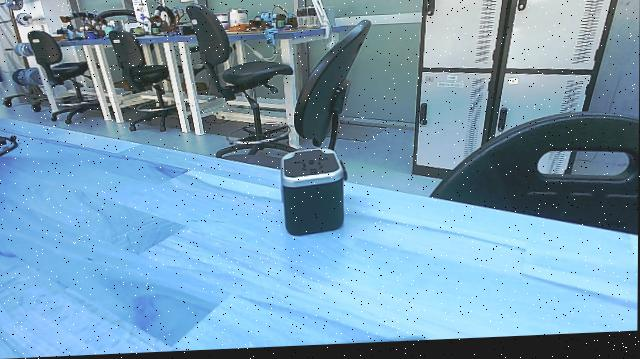adapter: (269, 148, 355, 244)
